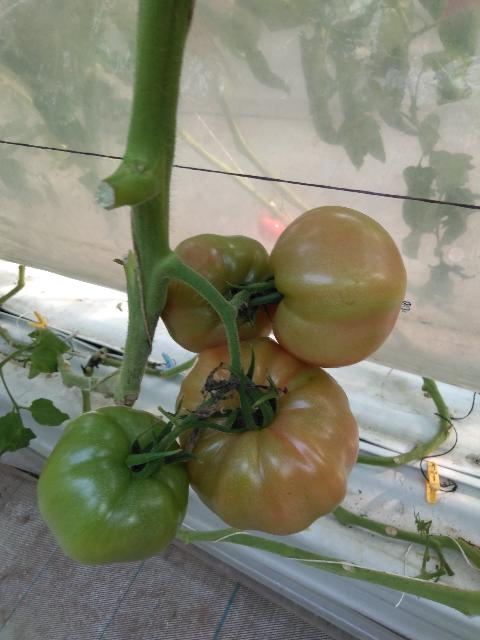b_green: (37, 405, 190, 566)
b_half_ripened: (175, 337, 359, 535), (270, 205, 408, 368), (160, 233, 281, 354)
